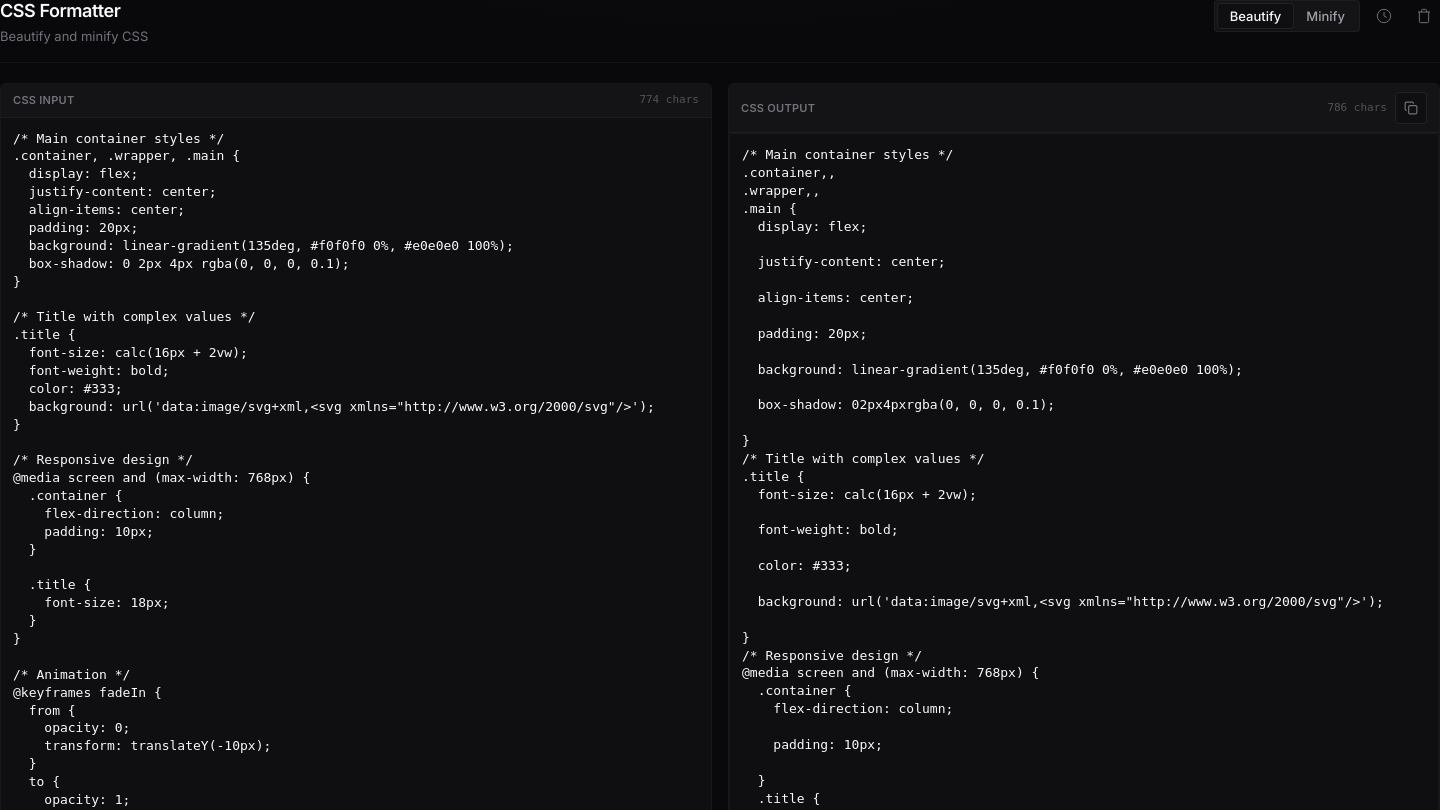
Test case: CssTool › should clear content when clear button clicked
Click the button titled "Clear" at (1424, 16), box [1408,0,1439,32]
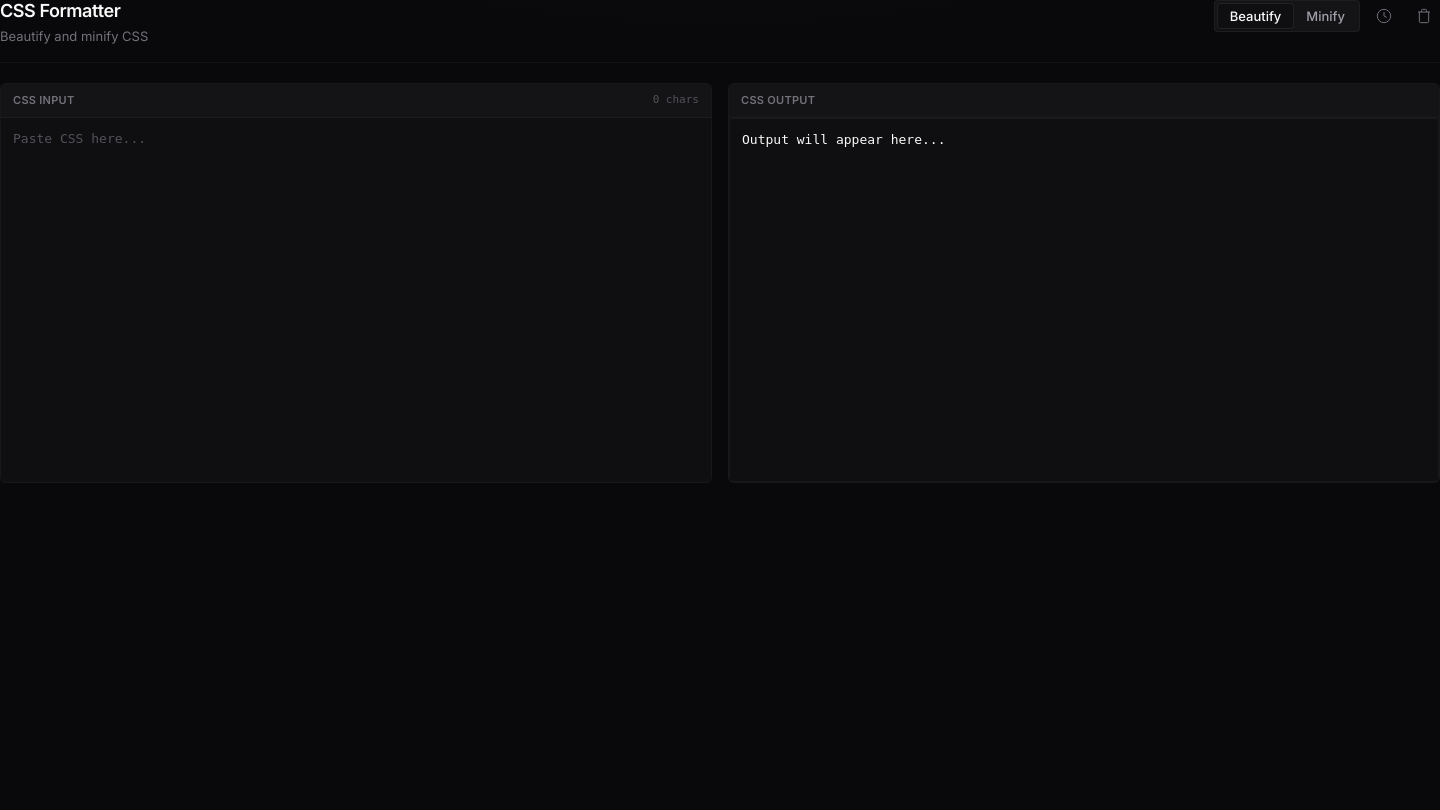
Check: the text box with class "editor-textarea" is empty, box [1,118,711,482]
